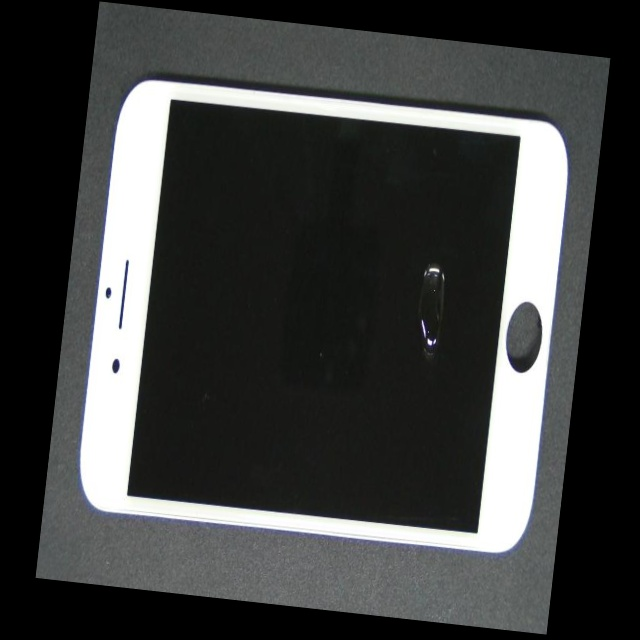oil: (252, 126, 599, 391)
